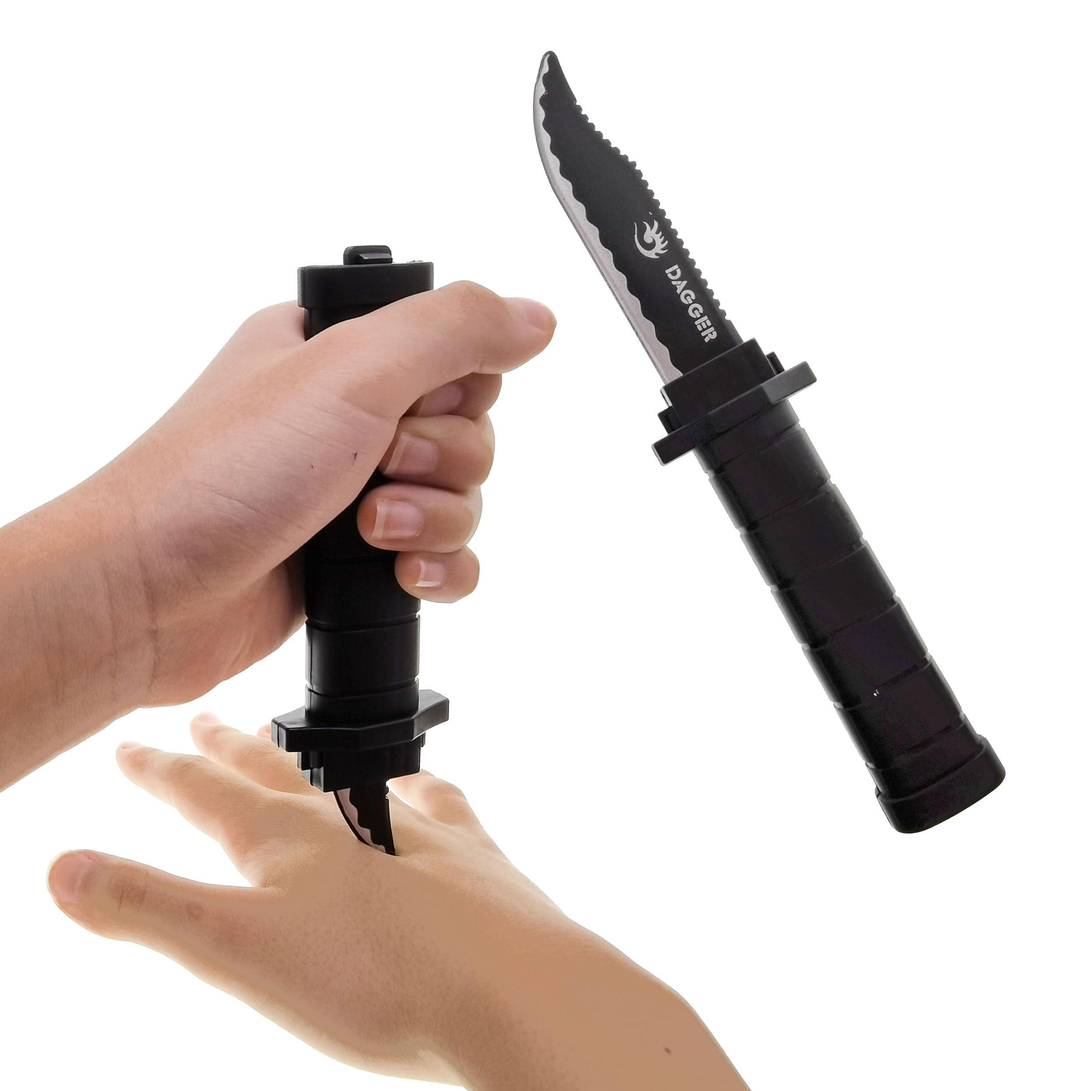Knife: (0, 283, 749, 1091), (531, 50, 1008, 836), (150, 280, 555, 709), (299, 578, 431, 874)
